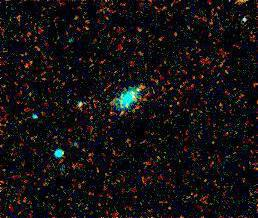star: (123, 76, 153, 106)
